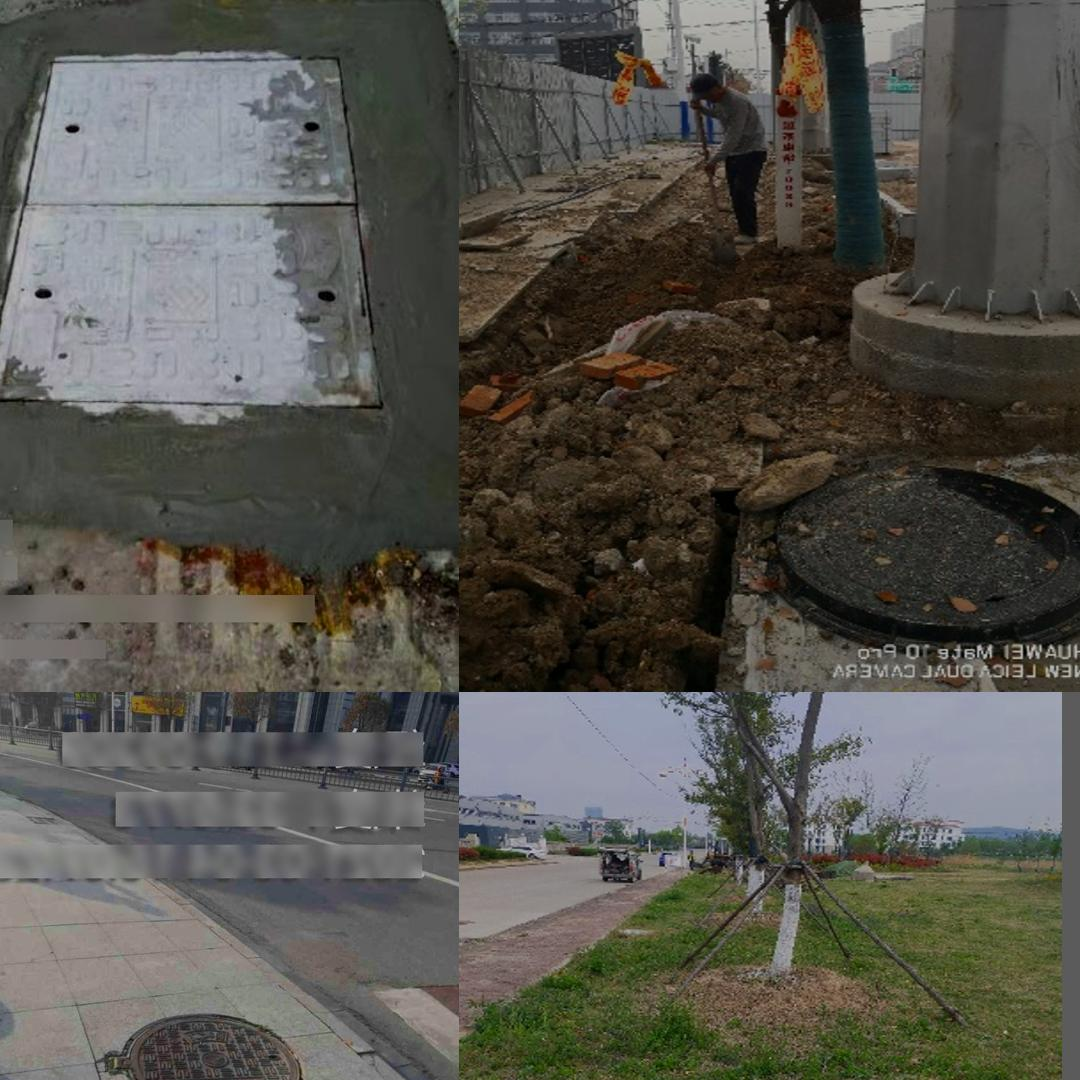good: (0, 50, 389, 420), (762, 457, 1080, 657), (109, 1012, 302, 1080)
